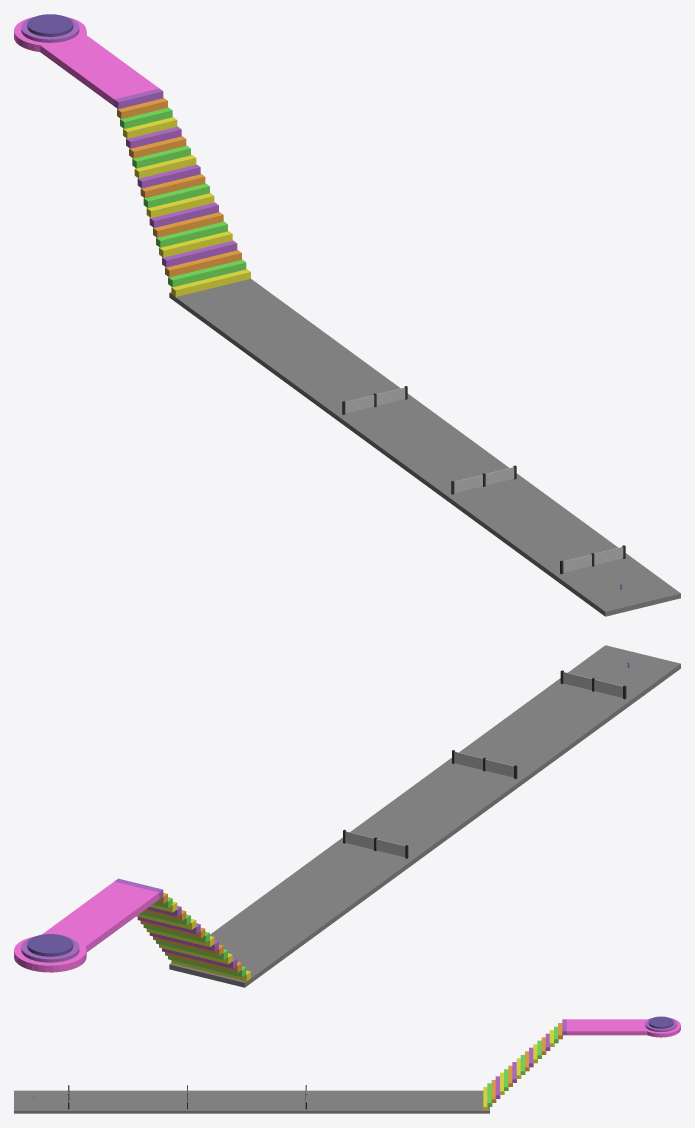
The model's file is stick_man_oyunu_LEVEL_1-2.fbx.
3 renders of one model, top to bottom at view 1: azimuth 30°, elevation 25°; view 2: azimuth 150°, elevation 25°; view 3: azimuth 270°, elevation 25°, orthographic. The views are drawn at different scales.
Visible parts, largest first — view 1: Cube, Cube.031, Circle.002; view 2: Cube, Cube.031, Circle, Circle.002, Circle.001; view 3: Cube, Cube.031, Circle, Circle.002.
Part boxes in pixels (left/top/right/bottom): Cube: left=169, top=279, right=680, bottom=616; Cube.031: left=40, top=34, right=158, bottom=105; Circle.002: left=27, top=14, right=73, bottom=36; Cube: left=169, top=645, right=680, bottom=987; Cube.031: left=42, top=881, right=159, bottom=952; Circle: left=14, top=936, right=86, bottom=972; Circle.002: left=27, top=934, right=73, bottom=956; Circle.001: left=21, top=937, right=79, bottom=962; Cube: left=14, top=1090, right=489, bottom=1113; Cube.031: left=566, top=1019, right=647, bottom=1035; Circle: left=641, top=1018, right=680, bottom=1037; Circle.002: left=648, top=1016, right=673, bottom=1028.
Size of what is drawn, in the model's own units: 802 by 1516 by 11222.
